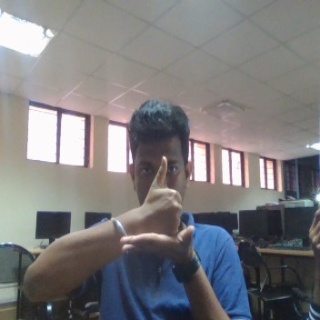Help: (117, 155, 197, 264)
